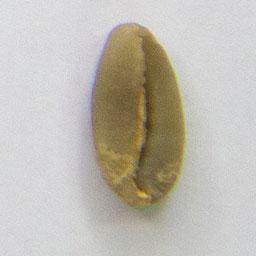longberry: (87, 18, 189, 210)
